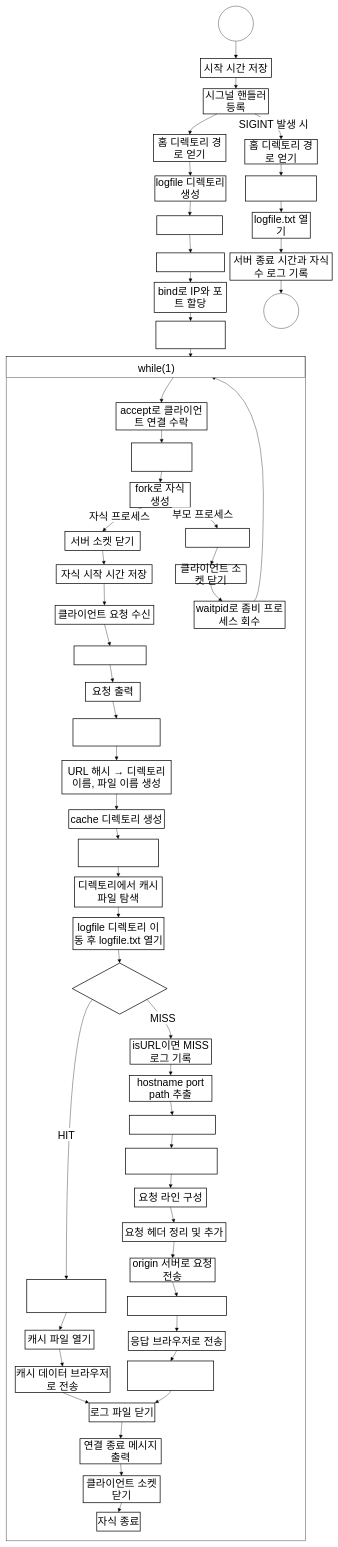
The diagram is 338 pixels wide and 1547 high, and some of its shapes have lost their labels. The shapes that lost their labels are listed below. From the top down, each one's centre as x and y in pixels, then its label:
[235,23]: Start
[281,188]: logfile 디렉토리 이동
[189,225]: 서버 소켓 생성
[190,262]: 서버 주소 설정
[281,310]: End
[190,335]: listen으로 연결 대기
[161,456]: 연결 메시지 출력
[217,537]: 자식 수 증가
[110,655]: 현재 시간 저장
[116,732]: 자동 요청시 isURL = 0
[118,853]: cache 서브디렉토리 생성
[119,988]: 캐시 HIT 여부
[172,1124]: origin 서버 IP 얻기
[171,1161]: 소켓 생성 및 origin 서버 연결
[66,1296]: isURL이면 HIT 로그 기록
[177,1306]: origin 서버 응답 수신
[170,1375]: 캐시 파일 생성 및 응답 저장
